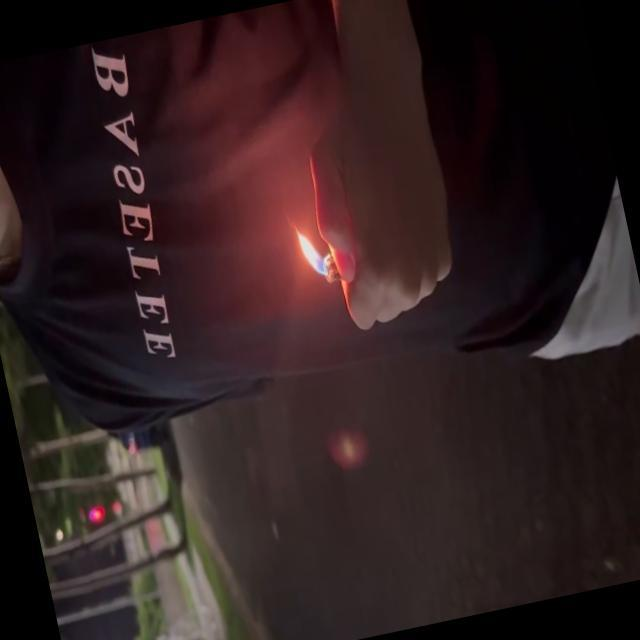Fire: (292, 219, 333, 289)
